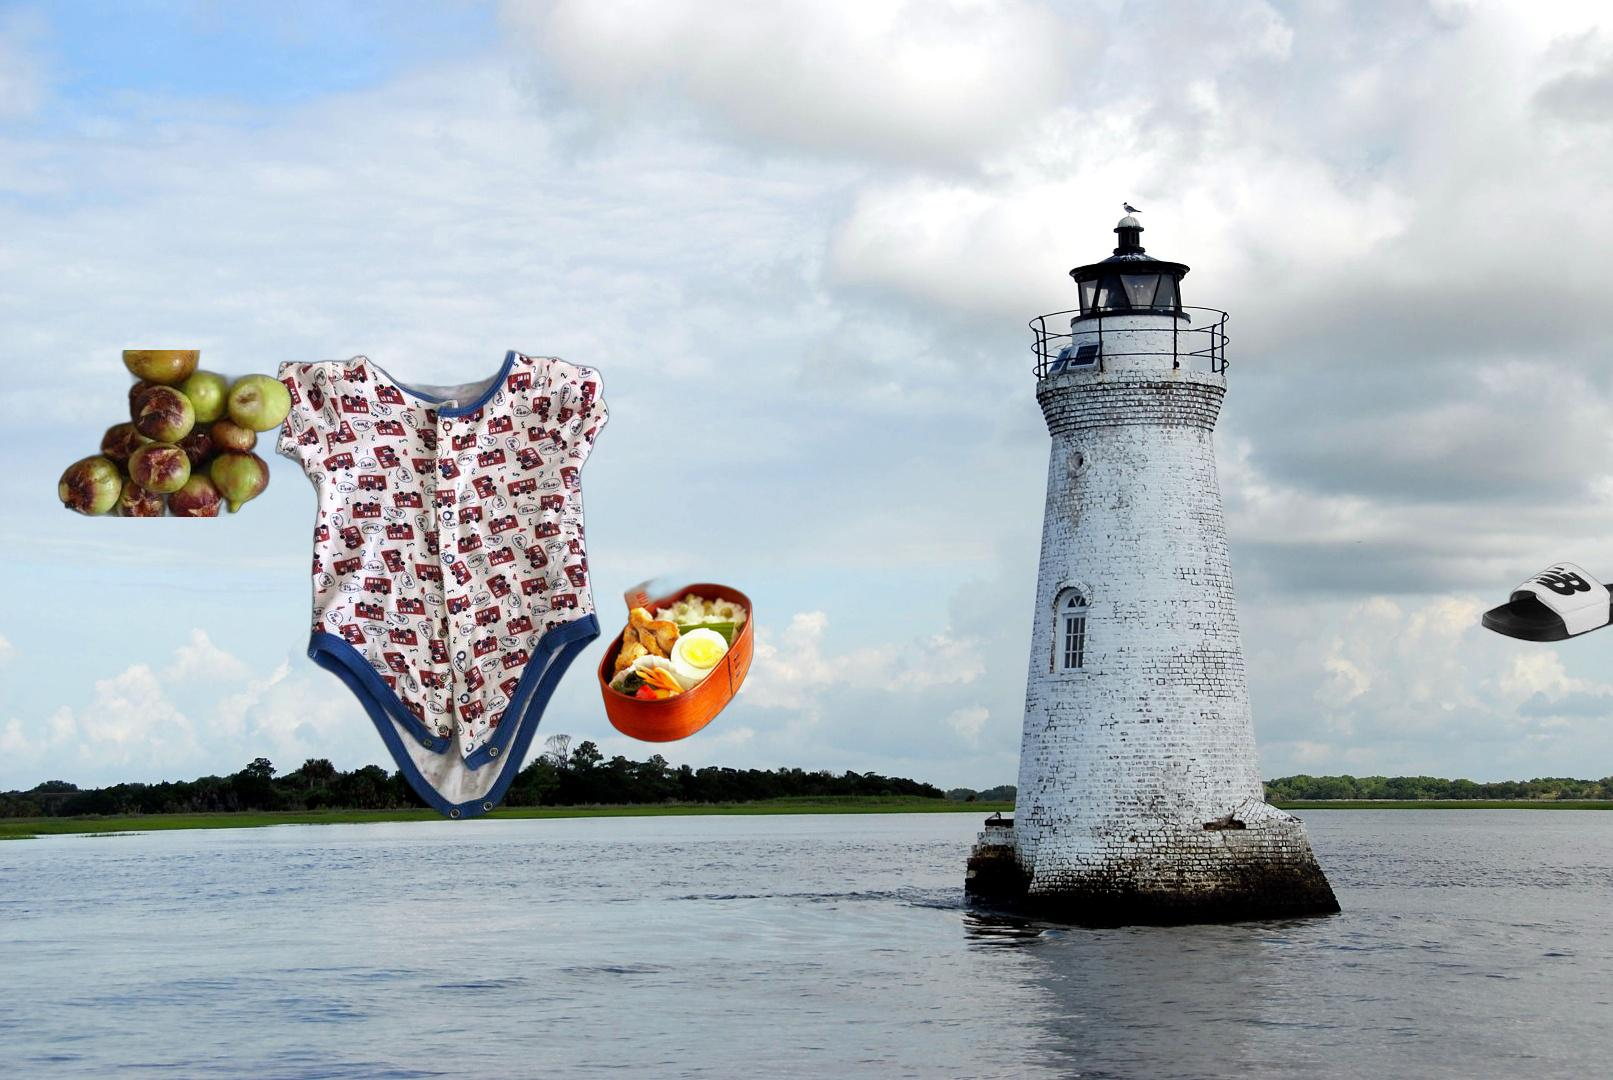biological: (596, 548, 800, 782), (55, 350, 293, 517)
clothes: (272, 345, 612, 824)
shoes: (1479, 560, 1613, 645)
